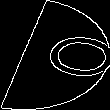O_W: (7, 27, 103, 83)
